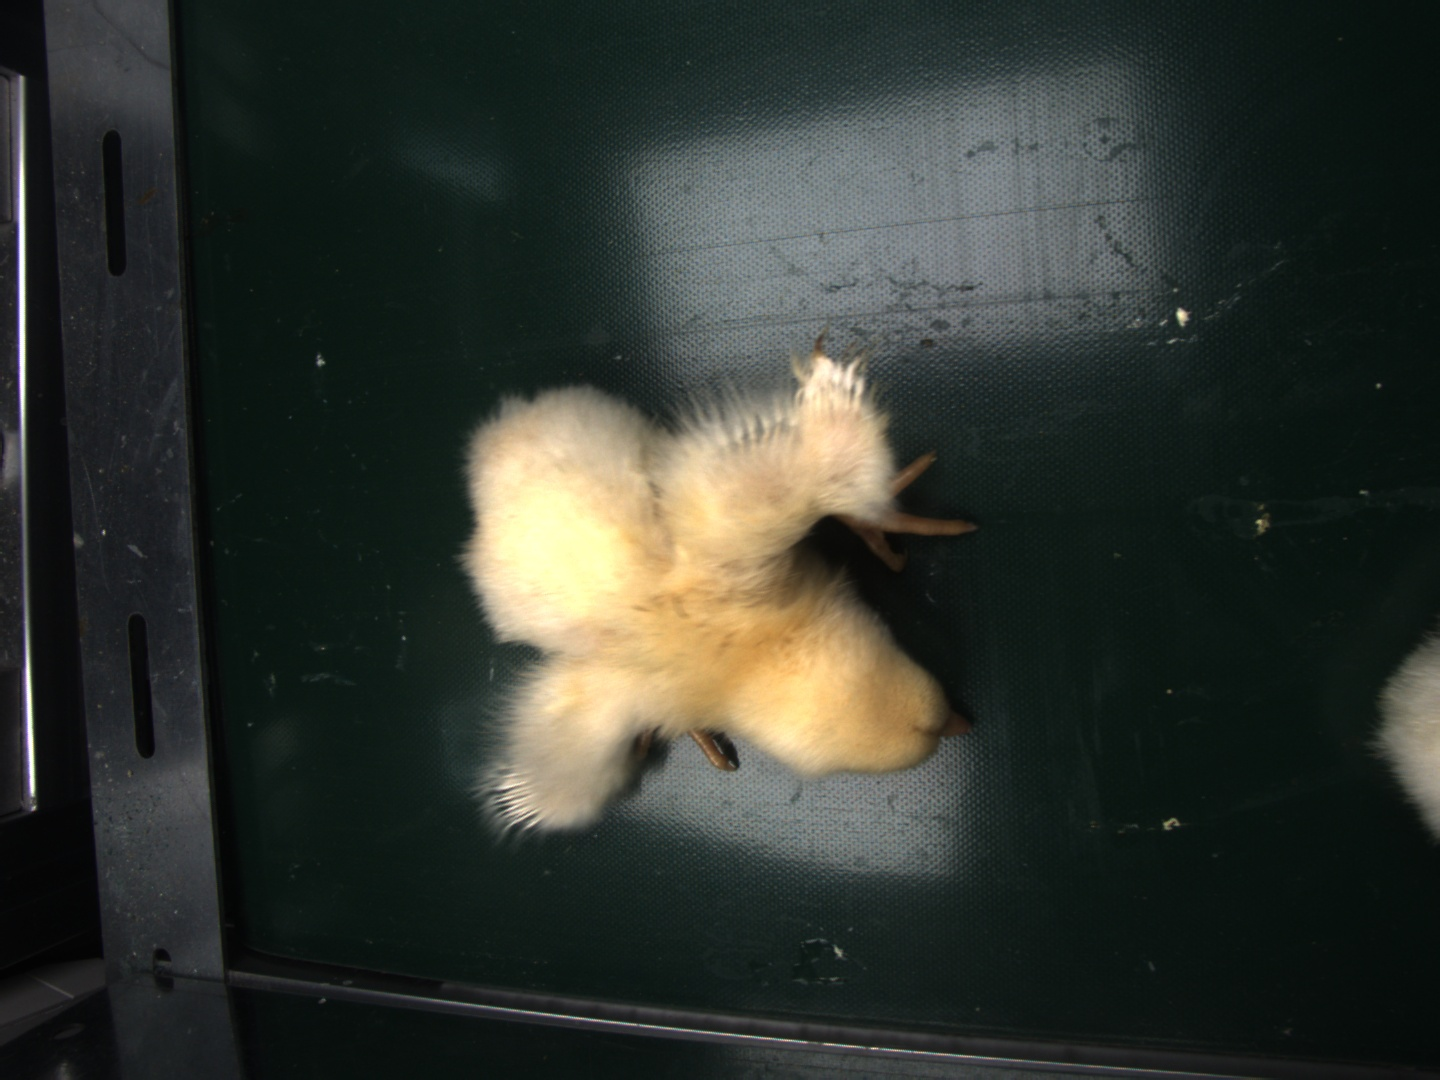male: (494, 773, 547, 834)
